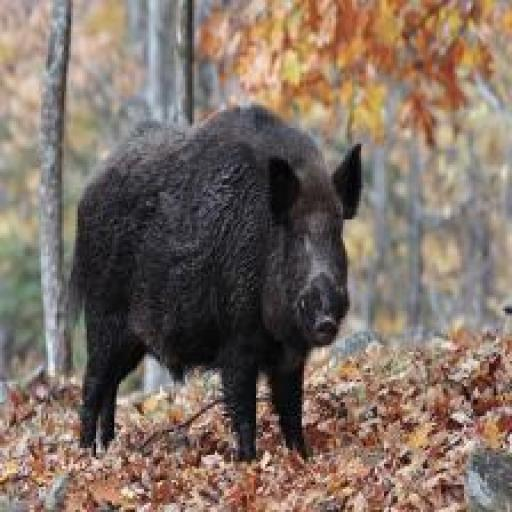Pig: (66, 105, 362, 461)
